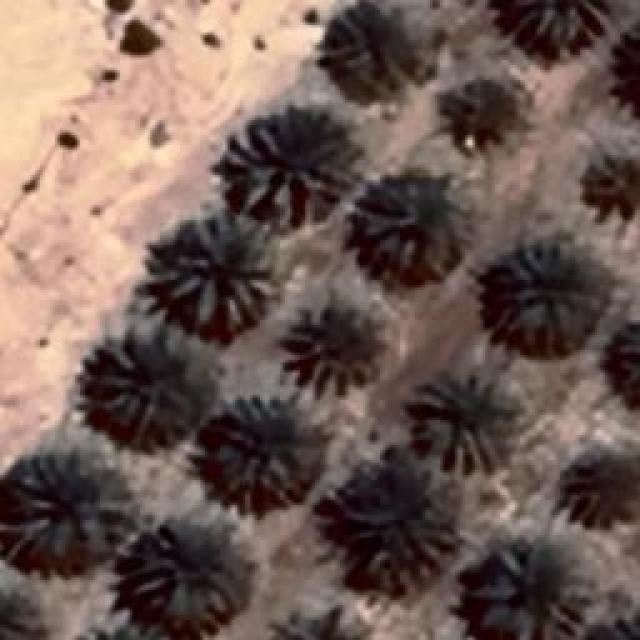PalmTree: (83, 75, 596, 486), (22, 65, 83, 607), (155, 210, 283, 332), (350, 160, 480, 280), (4, 448, 138, 560), (202, 390, 322, 512), (230, 110, 360, 222), (332, 470, 458, 585), (90, 322, 210, 436), (130, 512, 245, 630), (490, 238, 602, 352), (460, 542, 585, 638), (274, 298, 388, 398), (312, 0, 422, 102), (412, 372, 520, 472), (451, 81, 534, 159), (500, 0, 618, 40), (580, 158, 640, 226), (261, 606, 377, 640), (612, 13, 640, 122), (60, 619, 182, 640), (615, 314, 640, 410), (622, 14, 640, 122), (582, 607, 640, 640)
